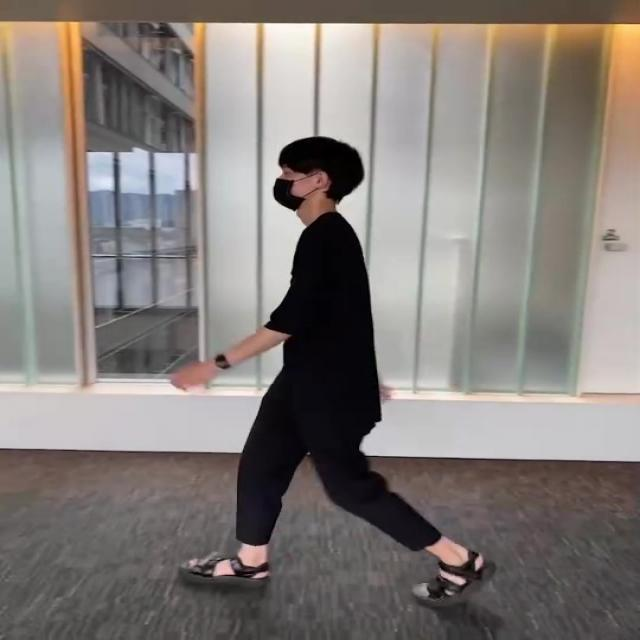direk: (156, 134, 500, 610)
